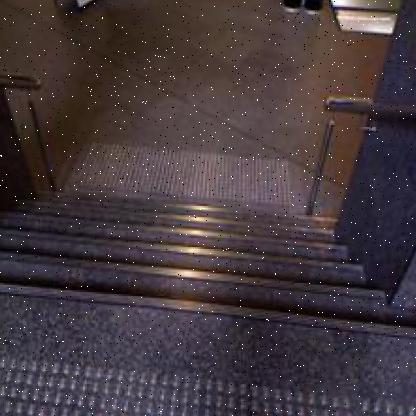stair_down: (18, 221, 340, 388)
